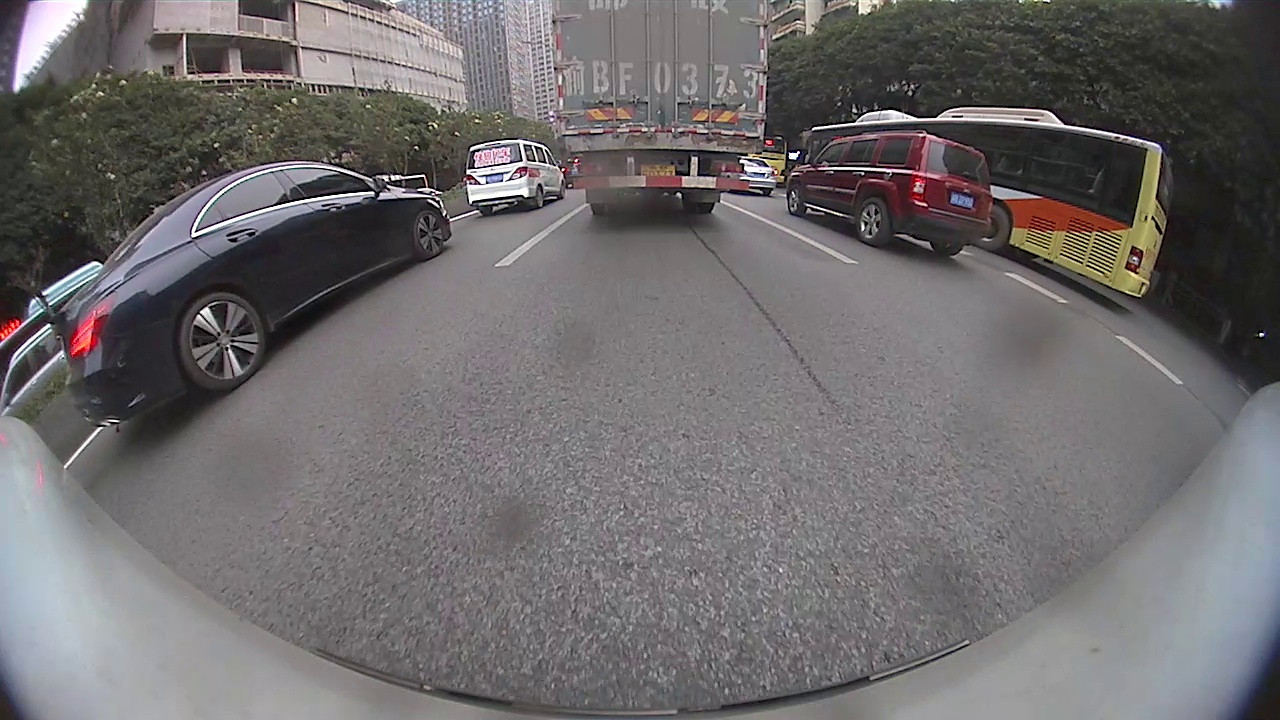bus: (807, 105, 1173, 296)
car: (53, 163, 448, 425), (788, 132, 992, 254), (467, 135, 569, 216)
front: (410, 209, 447, 260), (787, 186, 804, 217)
rear: (176, 290, 270, 396), (971, 202, 1012, 252), (855, 195, 894, 247)
truck: (548, 0, 768, 219)
